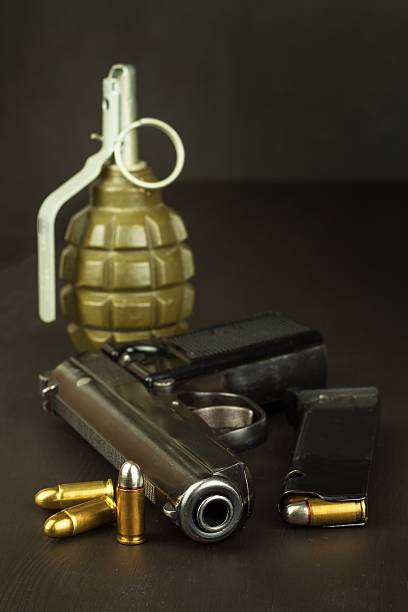e1: (32, 60, 195, 346)
